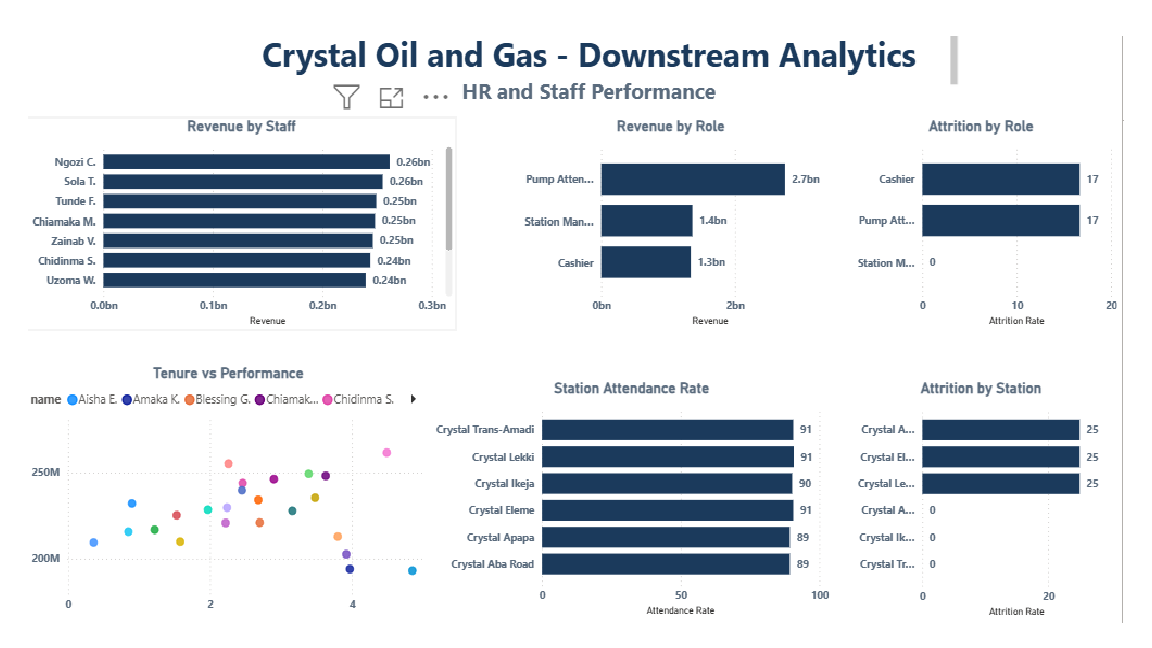

What the dashboard file says about the page in this screenshot:
{"tool":"powerbi","page":{"name":"HR and Staff Performance","canvas":[1280,720],"ordinal":4},"visuals":[{"type":"textbox","box":[10,0,280,280],"z":0},{"type":"textbox","box":[238.1,52.9,856.1,86.9],"z":1000},{"type":"clusteredBarChart","title":"Revenue by Staff","fields":{"Category":["vw_staff_performance.name"],"Y":["Sum(vw_staff_performance.total_revenue)"]},"box":[9.4,153.1,498.9,234.3],"z":2000},{"type":"clusteredBarChart","title":"Revenue by Role","fields":{"Category":["vw_staff_performance.role"],"Y":["Sum(vw_staff_performance.total_revenue)"]},"box":[568.8,153.1,376.1,234.3],"z":3000},{"type":"scatterChart","title":"Tenure vs Performance","fields":{"X":["Sum(vw_staff_tenure_vs_performance.tenure_years)"],"Y":["Sum(vw_staff_tenure_vs_performance.total_revenue)"],"Series":["vw_staff_tenure_vs_performance.name"]},"box":[9.4,423.3,468.7,281.6],"z":4000},{"type":"clusteredBarChart","title":"Station Attendance Rate","fields":{"Category":["vw_staff_attendance_rate.station_name"],"Y":["Avg(vw_staff_attendance_rate.attendance_rate_pct)"]},"box":[478.1,440.3,466.8,264.6],"z":5000},{"type":"clusteredBarChart","title":"Attrition by Role","fields":{"Category":["vw_staff_turnover_by_role.role"],"Y":["Sum(vw_staff_turnover_by_role.attrition_rate_pct)"]},"box":[955,153,325,234],"z":6000},{"type":"clusteredBarChart","title":"Attrition by Station","fields":{"Category":["vw_staff_turnover_by_station.station_name"],"Y":["Sum(vw_staff_turnover_by_station.attrition_rate_pct)"]},"box":[955,440,325,265],"z":7000}]}

Visuals, with their boxes in screenshot pixels (x1, y1, x2, y2), scaled from the page's 1280x720 canvas onto the 1152x648 screenshot:
textbox: (x1=9, y1=0, x2=261, y2=252)
textbox: (x1=214, y1=48, x2=985, y2=126)
"Revenue by Staff" clusteredBarChart: (x1=8, y1=138, x2=457, y2=349)
"Revenue by Role" clusteredBarChart: (x1=512, y1=138, x2=850, y2=349)
"Tenure vs Performance" scatterChart: (x1=8, y1=381, x2=430, y2=634)
"Station Attendance Rate" clusteredBarChart: (x1=430, y1=396, x2=850, y2=634)
"Attrition by Role" clusteredBarChart: (x1=860, y1=138, x2=1151, y2=348)
"Attrition by Station" clusteredBarChart: (x1=860, y1=396, x2=1151, y2=634)
